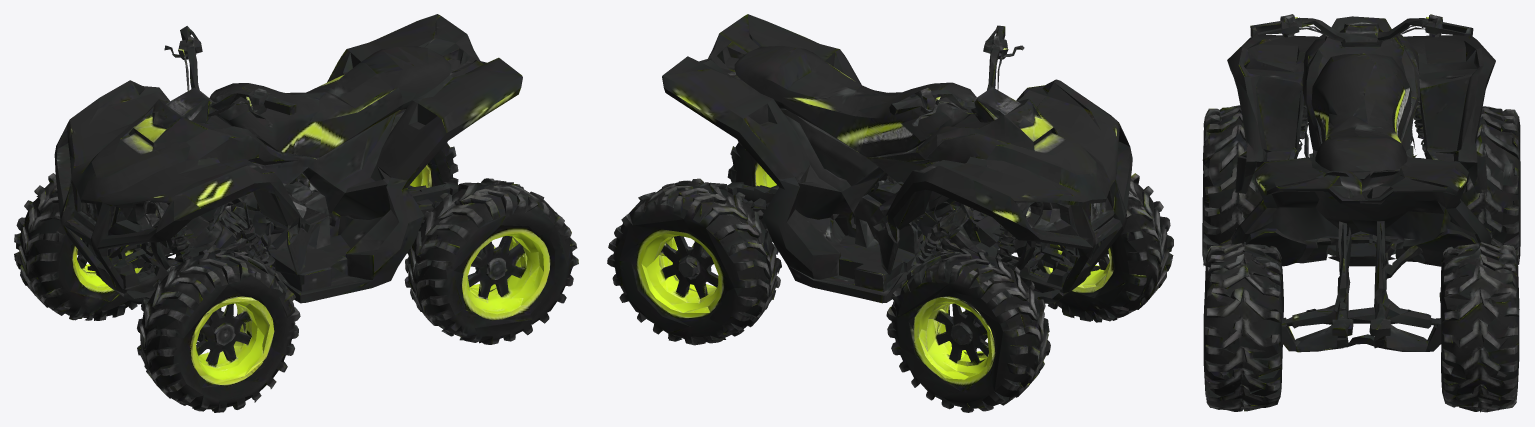
Rendered from quad-agressif-2.glb.
3 renders of one model, left to right at view 1: azimuth 30°, elevation 25°; view 2: azimuth 150°, elevation 25°; view 3: azimuth 270°, elevation 25°, orthographic. The views are drawn at different scales.
Bounding box in the file's own units: 1.9 × 1.18 × 1.19.
1 material, 1 textured.
